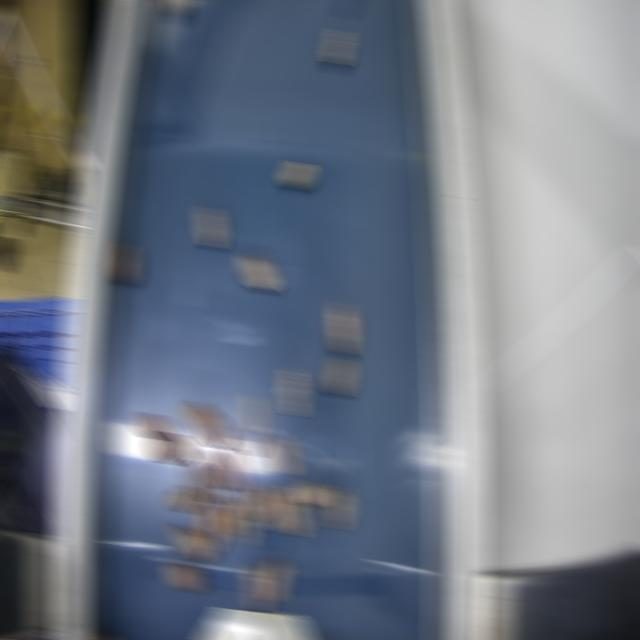Baby Potato: (185, 400, 231, 450), (172, 522, 214, 562), (184, 459, 218, 504), (240, 253, 276, 294), (241, 394, 265, 455), (281, 485, 309, 537), (329, 298, 355, 354), (260, 554, 290, 602), (232, 488, 256, 547), (151, 430, 191, 464), (165, 560, 205, 594), (202, 448, 232, 492), (212, 492, 242, 536), (264, 487, 292, 534), (280, 368, 306, 418), (324, 485, 352, 531), (245, 563, 270, 612), (198, 503, 224, 549), (270, 433, 297, 476), (326, 357, 354, 398), (111, 240, 137, 284), (198, 205, 224, 248), (135, 411, 171, 440), (246, 482, 272, 522), (222, 446, 246, 489), (294, 480, 332, 507), (282, 158, 312, 190), (168, 485, 202, 513), (326, 28, 350, 66), (242, 422, 264, 456), (165, 0, 187, 16)
